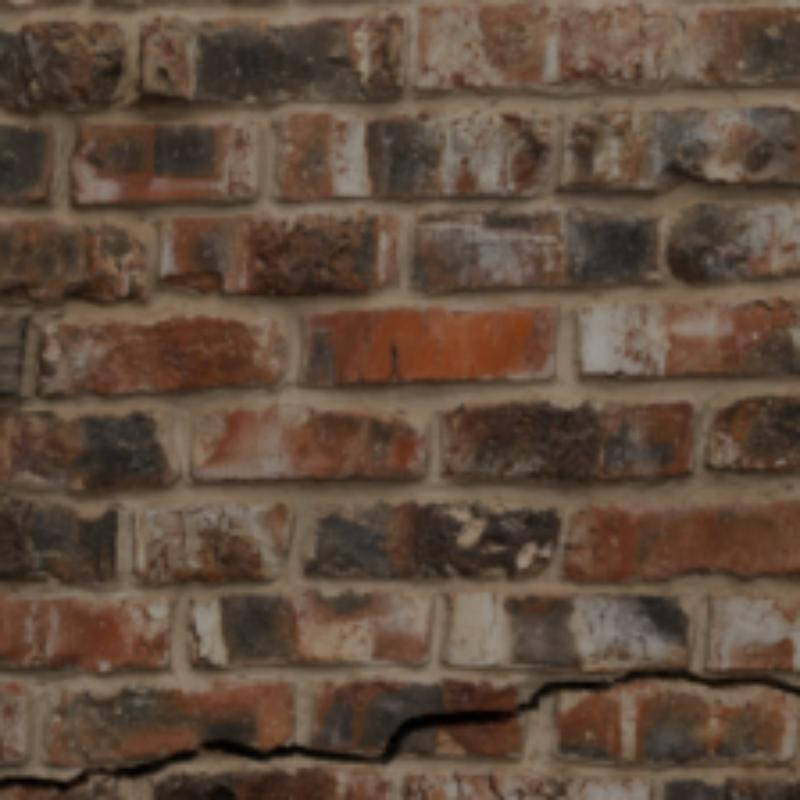pothole: (4, 674, 800, 791)
